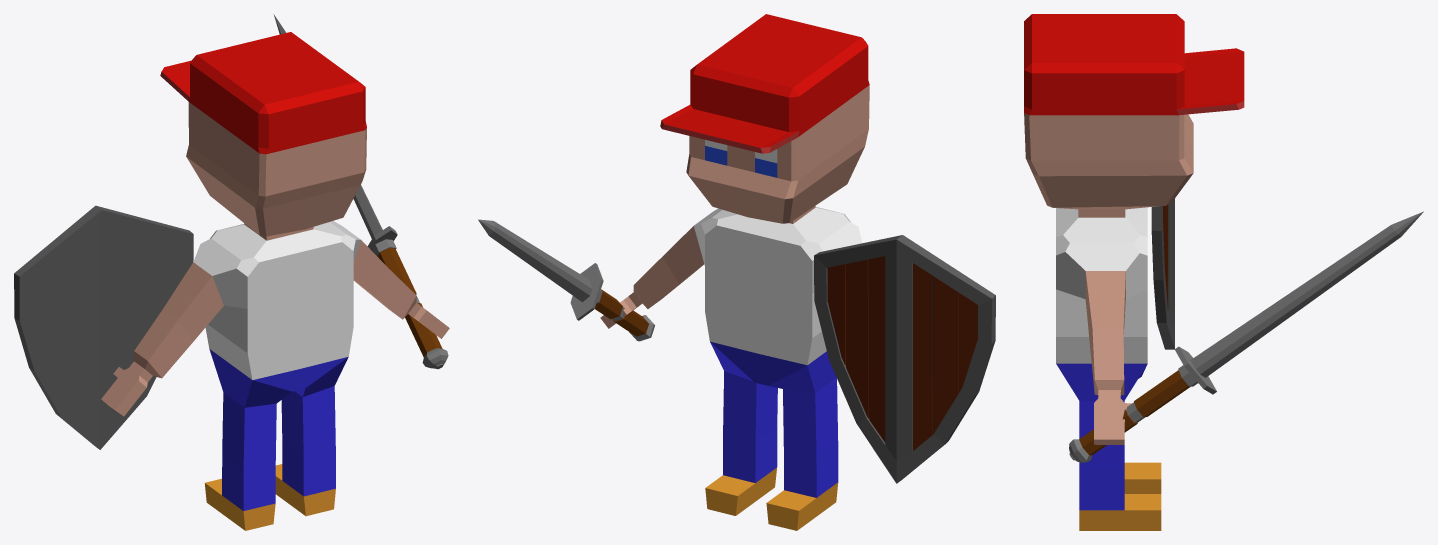
File: character2.glb
The picture shows the model from 3 angles, left to right: view 1: azimuth 30°, elevation 25°; view 2: azimuth 150°, elevation 25°; view 3: azimuth 270°, elevation 25°; orthographic projection. The views are drawn at different scales.
Parts seen in each view (by area): view 1: Character, Shield.001, Sword.001; view 2: Character, Shield.001, Sword.001; view 3: Character, Sword.001, Shield.001.
Part boxes in pixels (x1,y1,x2,y2): Character: [101, 32, 449, 530]; Shield.001: [14, 205, 193, 449]; Sword.001: [273, 14, 448, 369]; Character: [600, 14, 869, 530]; Shield.001: [814, 235, 995, 483]; Sword.001: [478, 219, 654, 341]; Character: [1024, 14, 1244, 530]; Sword.001: [1069, 211, 1423, 462]; Shield.001: [1151, 199, 1174, 349].
Size of the model in its own units: 2.1 by 2.2 by 1.7.
